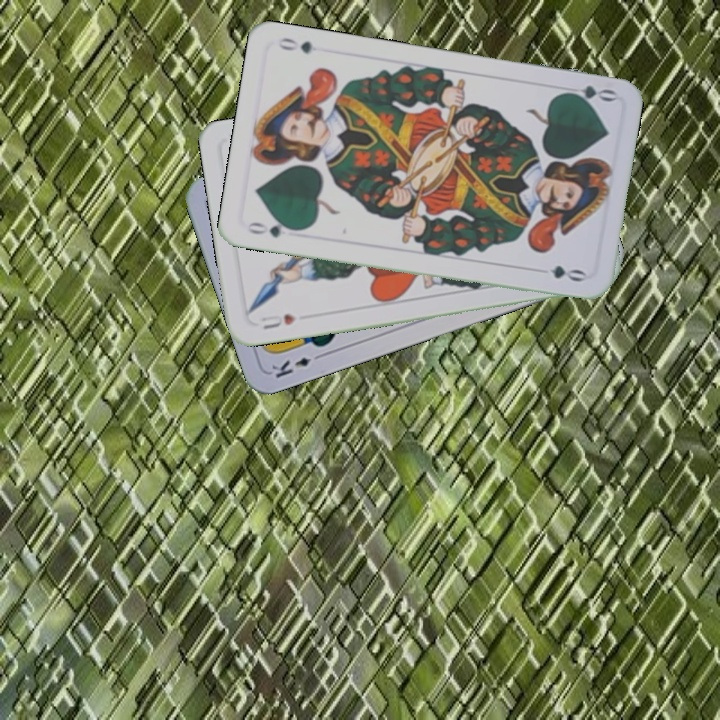EK: (267, 349, 326, 381)
GO: (558, 81, 618, 107), (242, 217, 302, 241)
HU: (257, 309, 299, 332)
